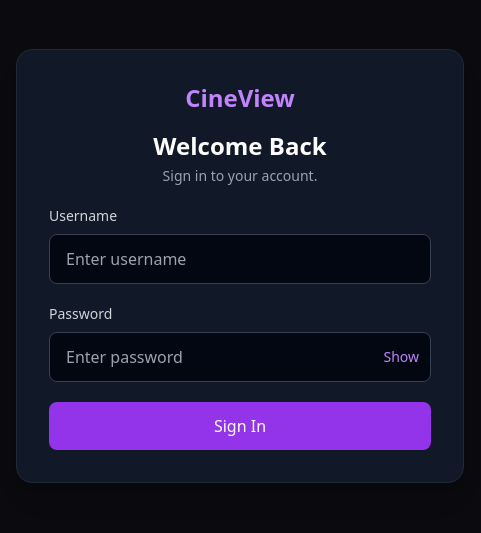
it: Milestone 2 authentication › shows error for invalid credentials
This screenshot has width=481, height=533.
Type "admin" into the field labelled "Username" at (240, 259), box 49,234 -> 431,284
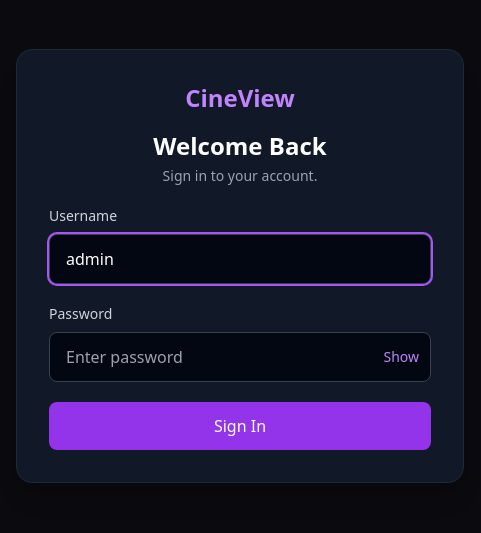
Type "wrong" into the password field labelled "Password" at (240, 357), box 49,332 -> 431,382
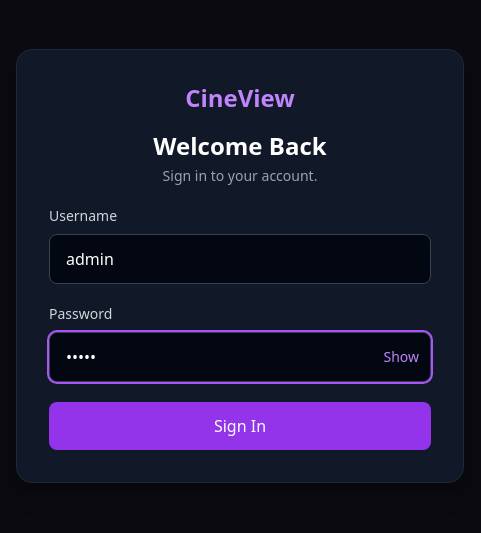
Click the button "Sign In" at (240, 426), box 49,402 -> 431,450
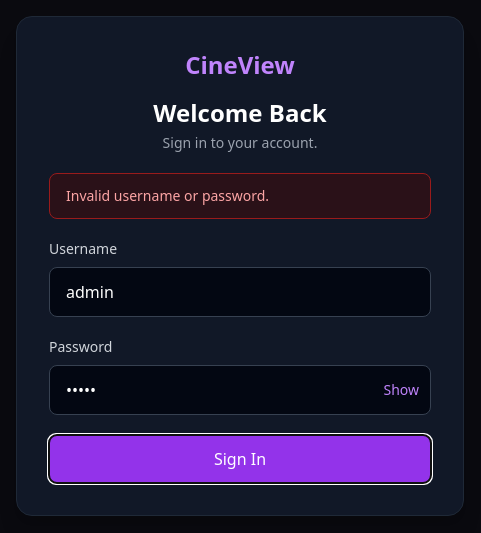
Check: the text "Invalid username or password." is shown, box 49,173 -> 431,219
